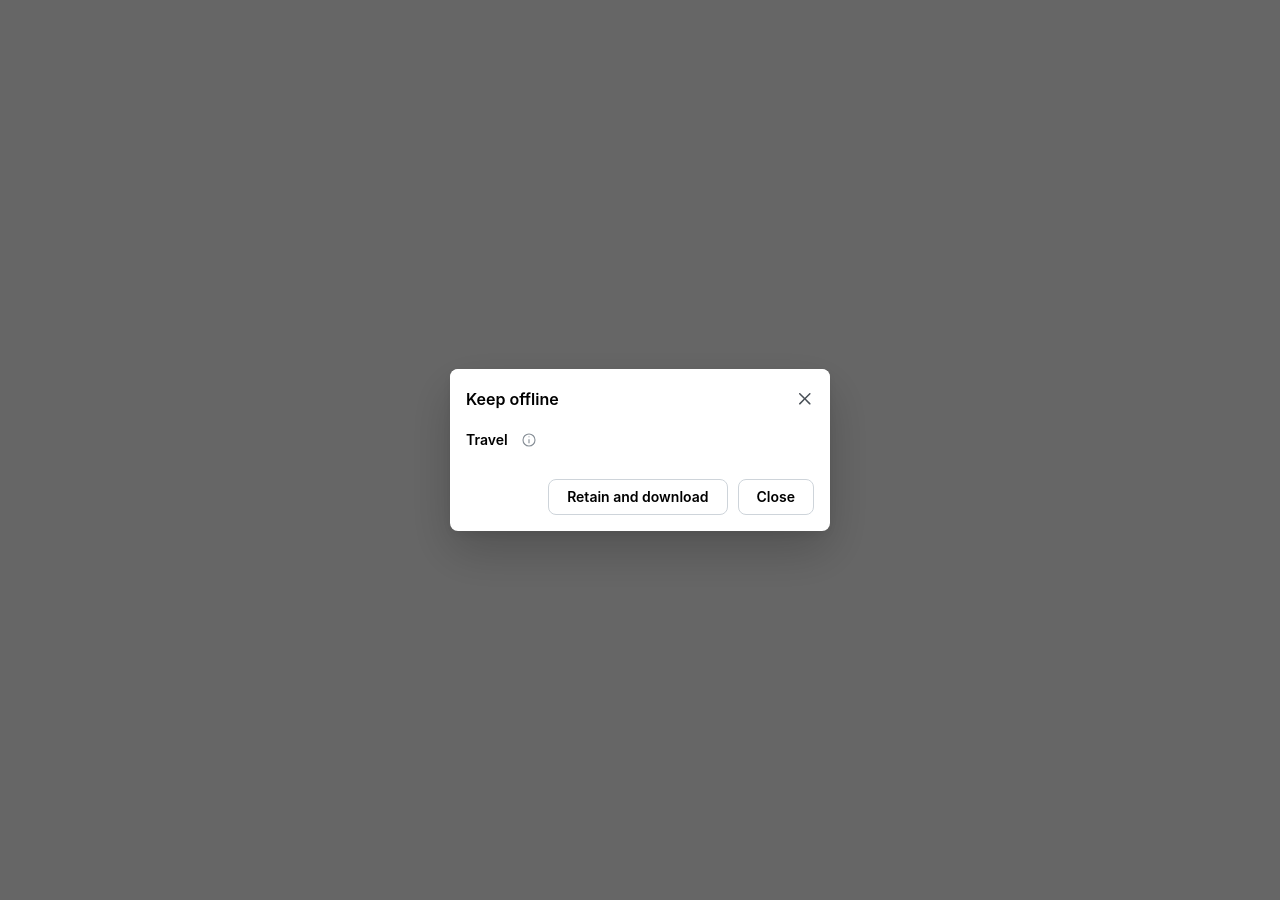
Test: retains the fileset identity before downloading its members
Click the button "Retain and download" at (638,497), box [548, 479, 728, 515]
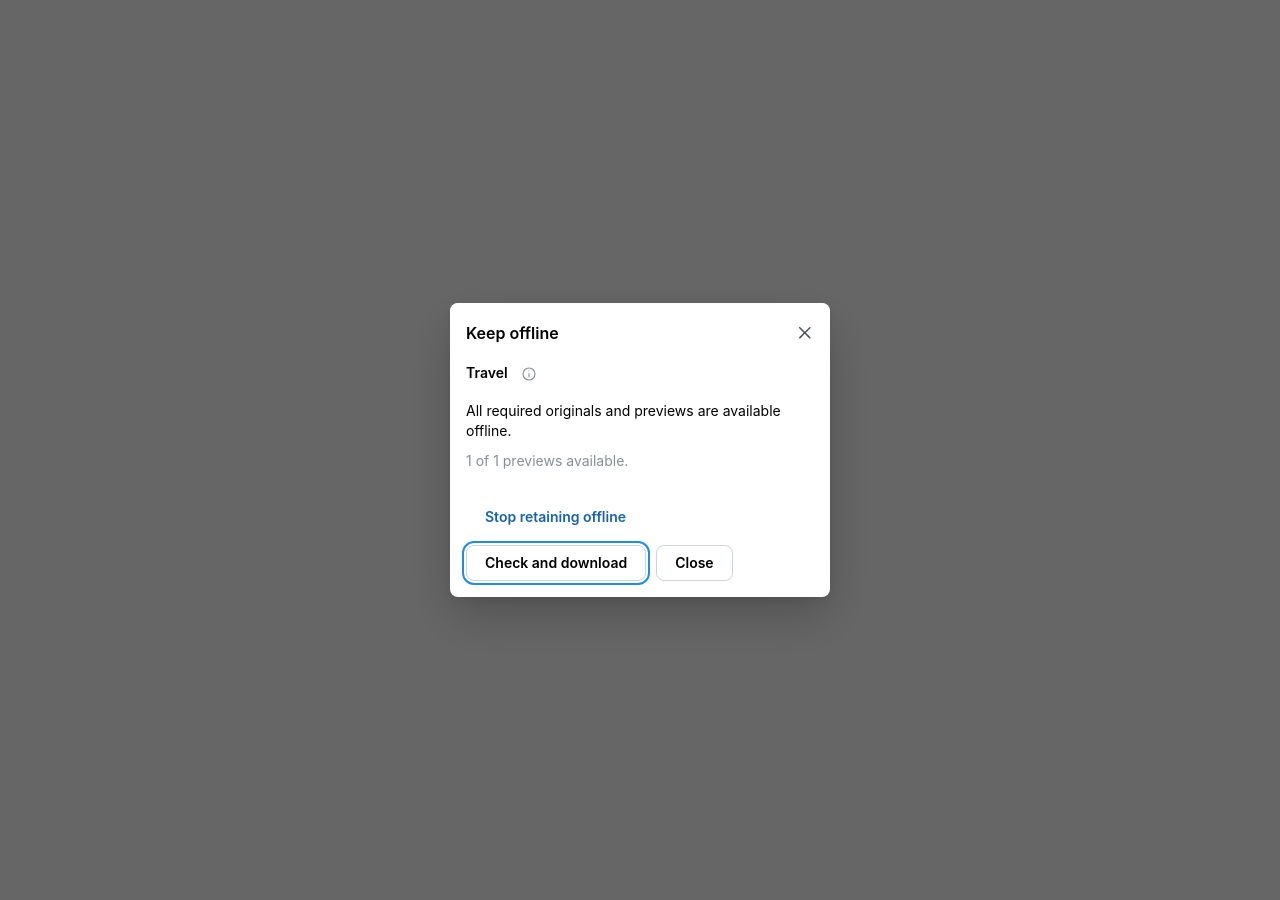
Check: the text "All required originals and previews are available offline." is shown, box [466, 400, 814, 441]
